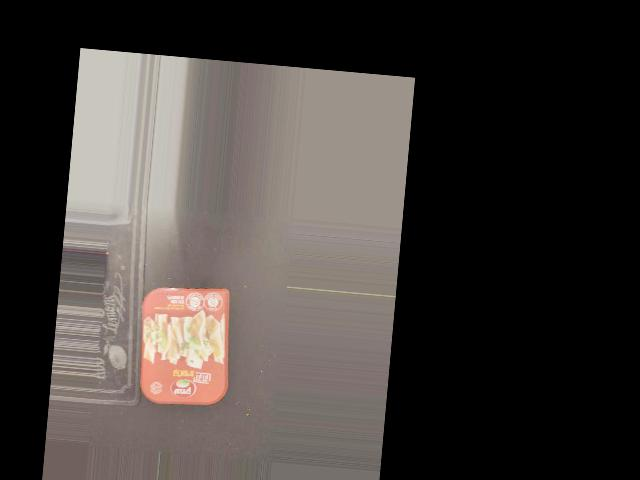cheese: (139, 285, 231, 405)
